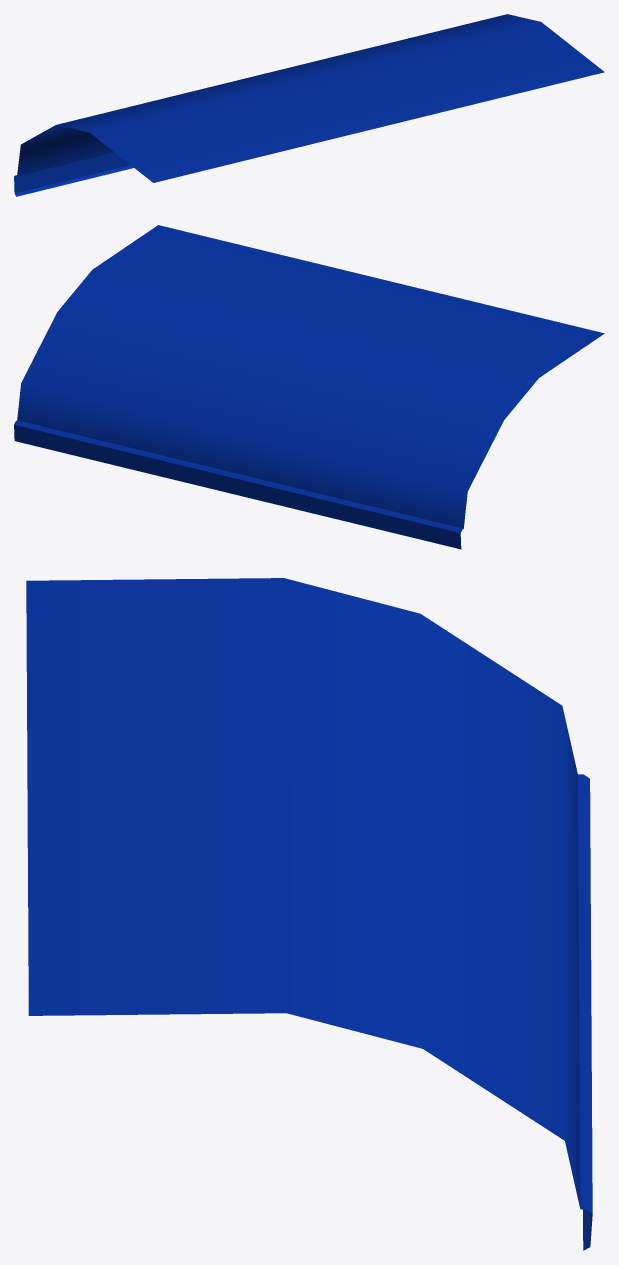
File: asset_toit.fbx
The picture shows the model from 3 angles, top to bottom: view 1: azimuth 30°, elevation 25°; view 2: azimuth 150°, elevation 25°; view 3: azimuth 270°, elevation 25°; orthographic projection. The views are drawn at different scales.
Parts seen in each view (by area): view 1: pCube20; view 2: pCube20; view 3: pCube20.
Part boxes in pixels (x1,y1,x2,y2): pCube20: (14, 14, 604, 196); pCube20: (14, 225, 604, 549); pCube20: (26, 578, 592, 1250).
Size of the model in its own units: 4.03 by 1.01 by 2.2.
